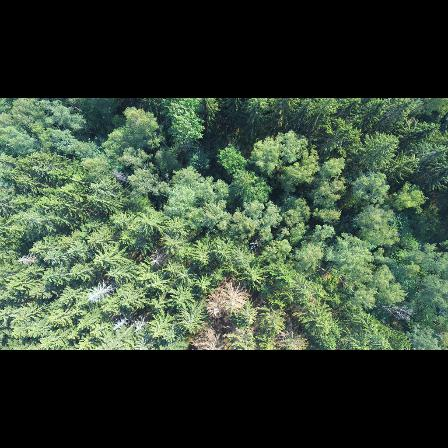Dead: (207, 276, 252, 318), (84, 280, 116, 305), (14, 249, 41, 267), (147, 249, 168, 271), (112, 167, 129, 187), (114, 313, 130, 332)
